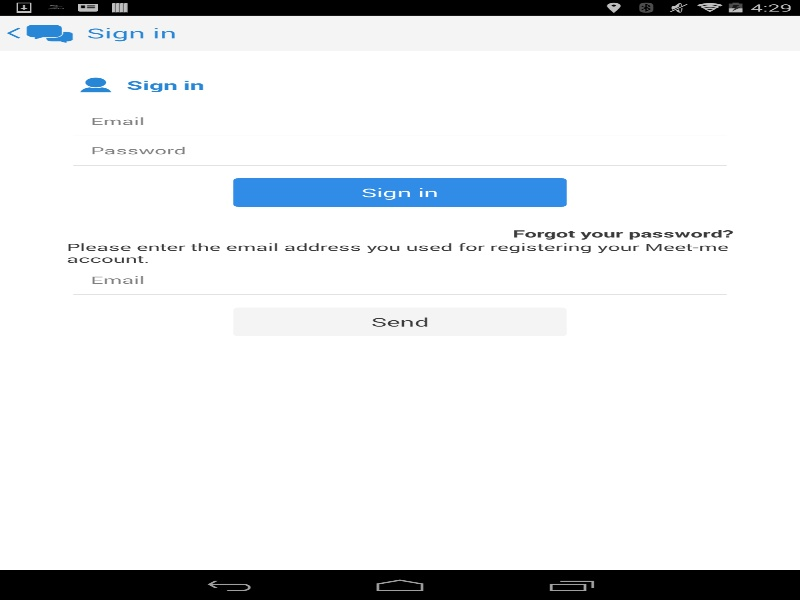Button: (233, 307, 566, 336), (233, 178, 566, 206)
Input: (66, 106, 733, 135), (66, 136, 733, 165), (66, 265, 733, 294)
